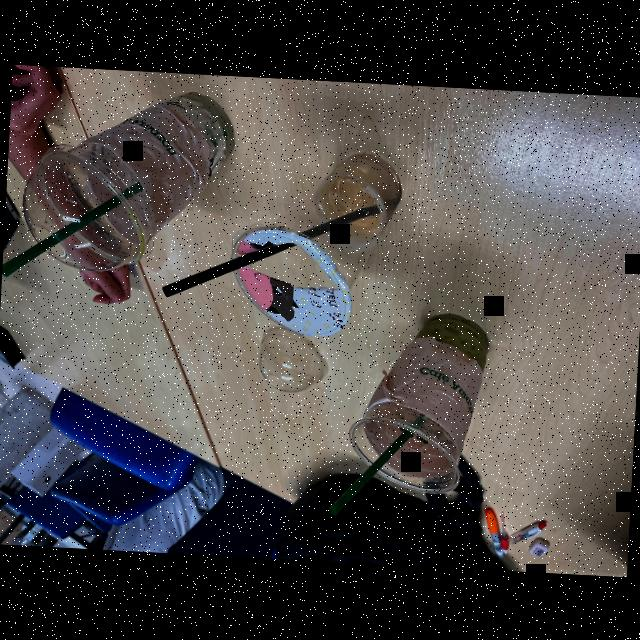plastic_cup: (23, 74, 240, 274), (236, 136, 408, 344), (348, 300, 496, 497)
plastic_cup_lid: (18, 130, 138, 284), (253, 323, 331, 400)
straw: (160, 186, 391, 309), (2, 168, 147, 286), (314, 400, 434, 526)
